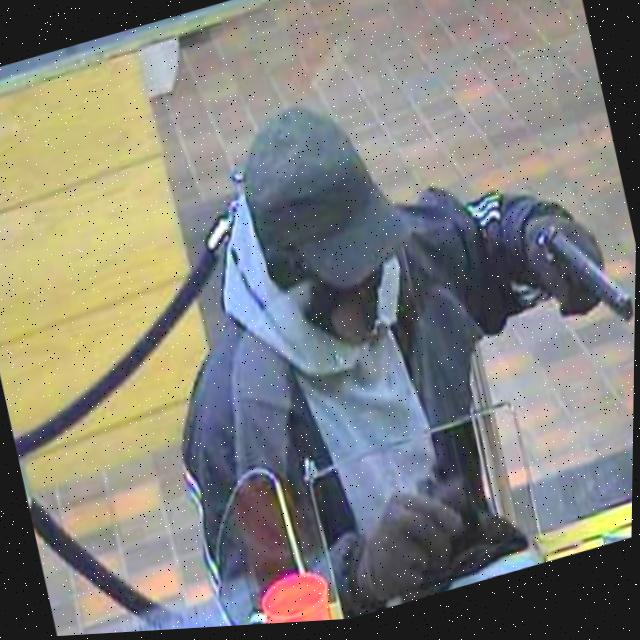pistol: (533, 212, 637, 347)
